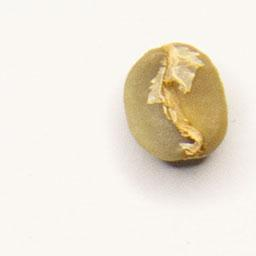premium: (121, 39, 231, 165)
